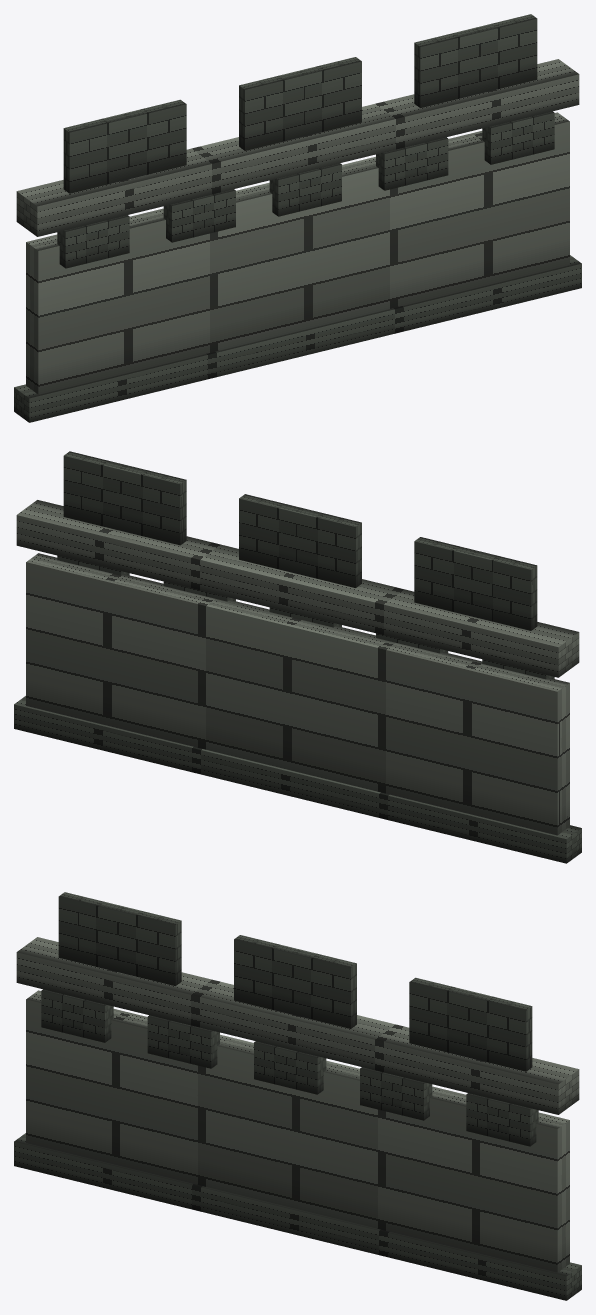
Rendered from corbel_strip.gltf.
3 views of the same model, one above another, from view 1: azimuth 30°, elevation 25°; view 2: azimuth 150°, elevation 25°; view 3: azimuth 330°, elevation 25° (orthographic).
Parts seen in each view (by area): view 1: corbel_strip; view 2: corbel_strip; view 3: corbel_strip.
Boxes of the visible parts, x1,y1,x2,y2 form: corbel_strip: (14, 14, 581, 422); corbel_strip: (14, 451, 581, 863); corbel_strip: (14, 892, 581, 1300).
Bounding box in the file's own units: 1.04 × 0.5005 × 0.074.
Materials: 1 (1 with a texture image).
